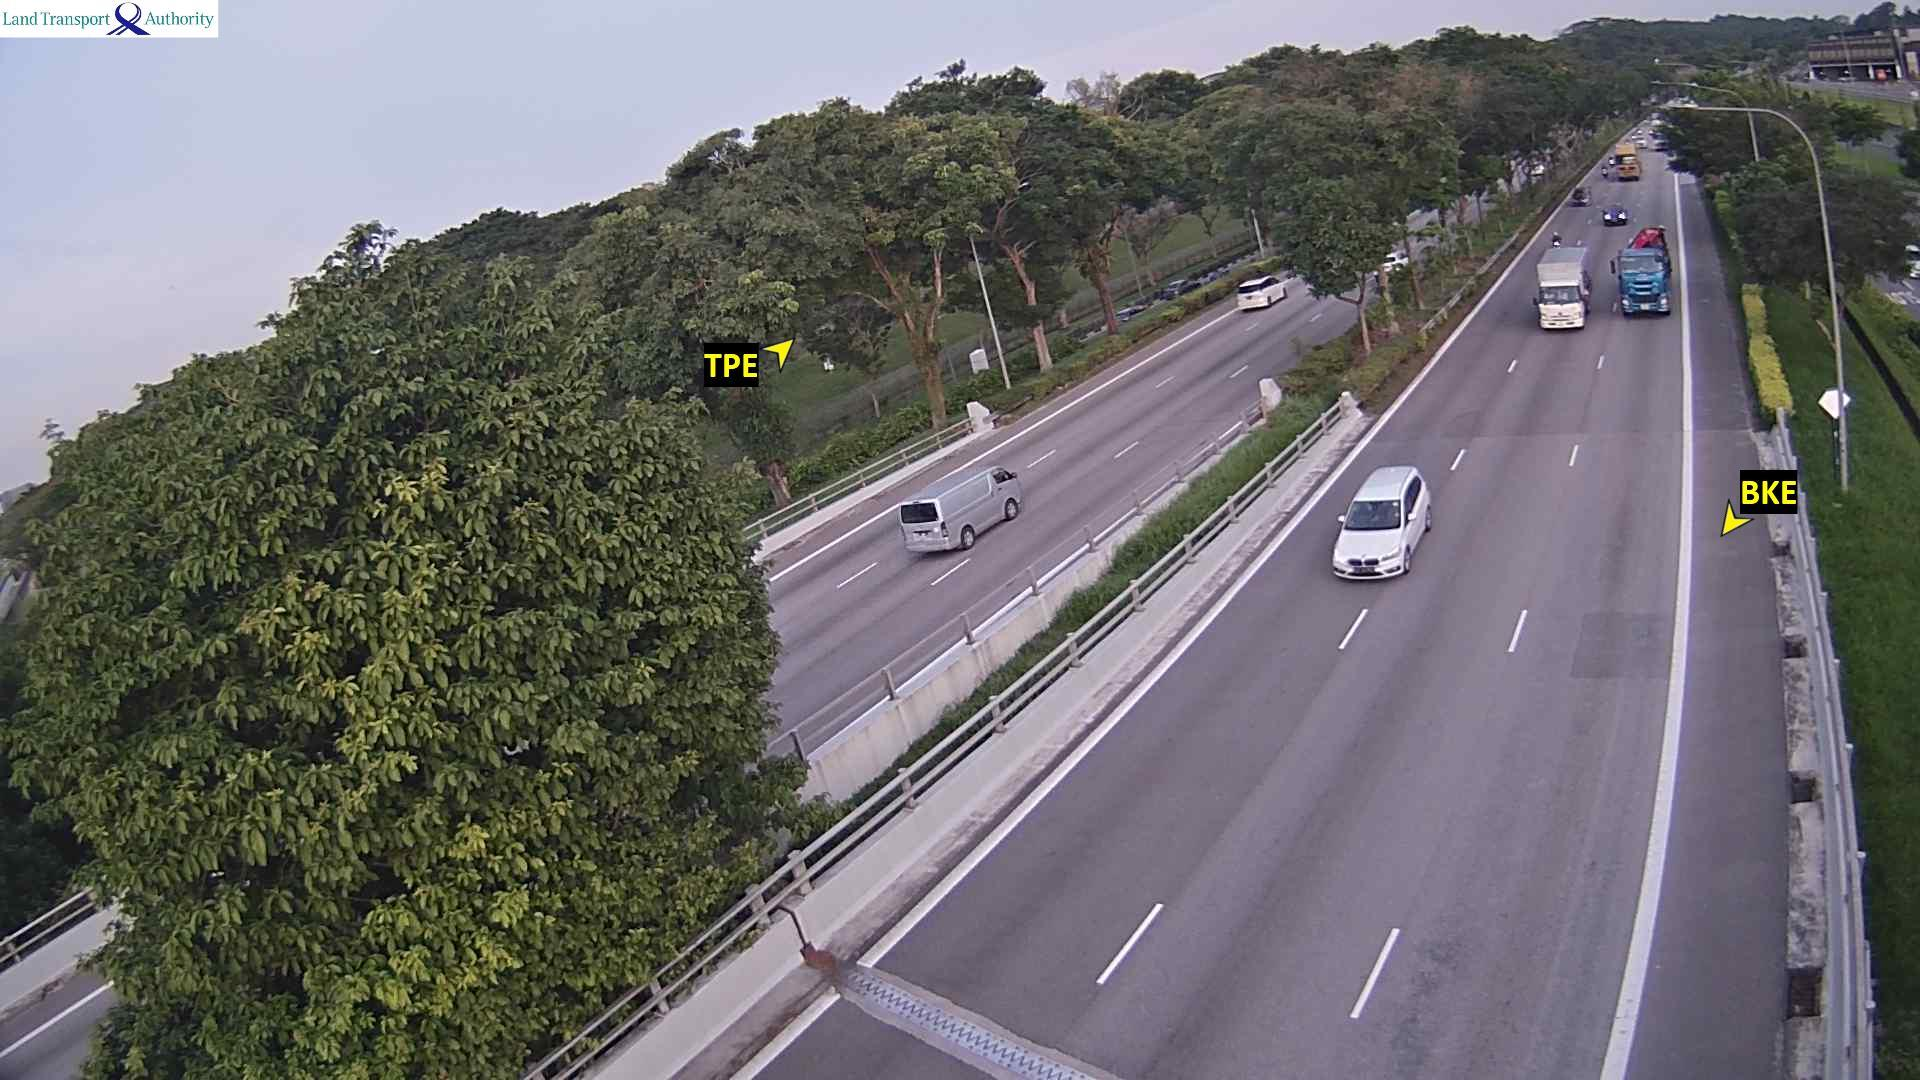cars: (1331, 463, 1432, 581), (896, 464, 1022, 553), (1234, 273, 1286, 311), (1157, 276, 1201, 300), (1634, 126, 1669, 151), (1114, 298, 1150, 321), (1380, 248, 1407, 272), (1601, 203, 1627, 225), (1903, 242, 1919, 277), (1569, 185, 1590, 205), (1601, 154, 1616, 178), (1651, 133, 1669, 151)
trucks: (1534, 244, 1592, 330), (1609, 244, 1671, 316), (1601, 142, 1640, 180)
